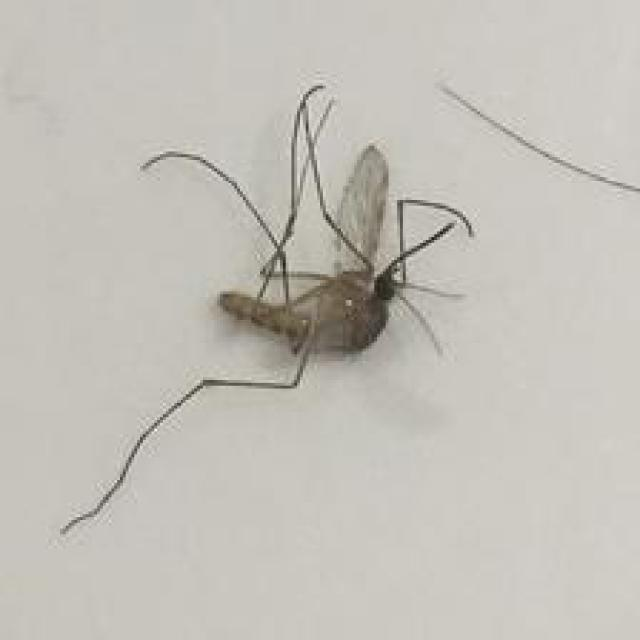Culex: (58, 81, 476, 536)
